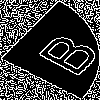B: (25, 25, 100, 79)
